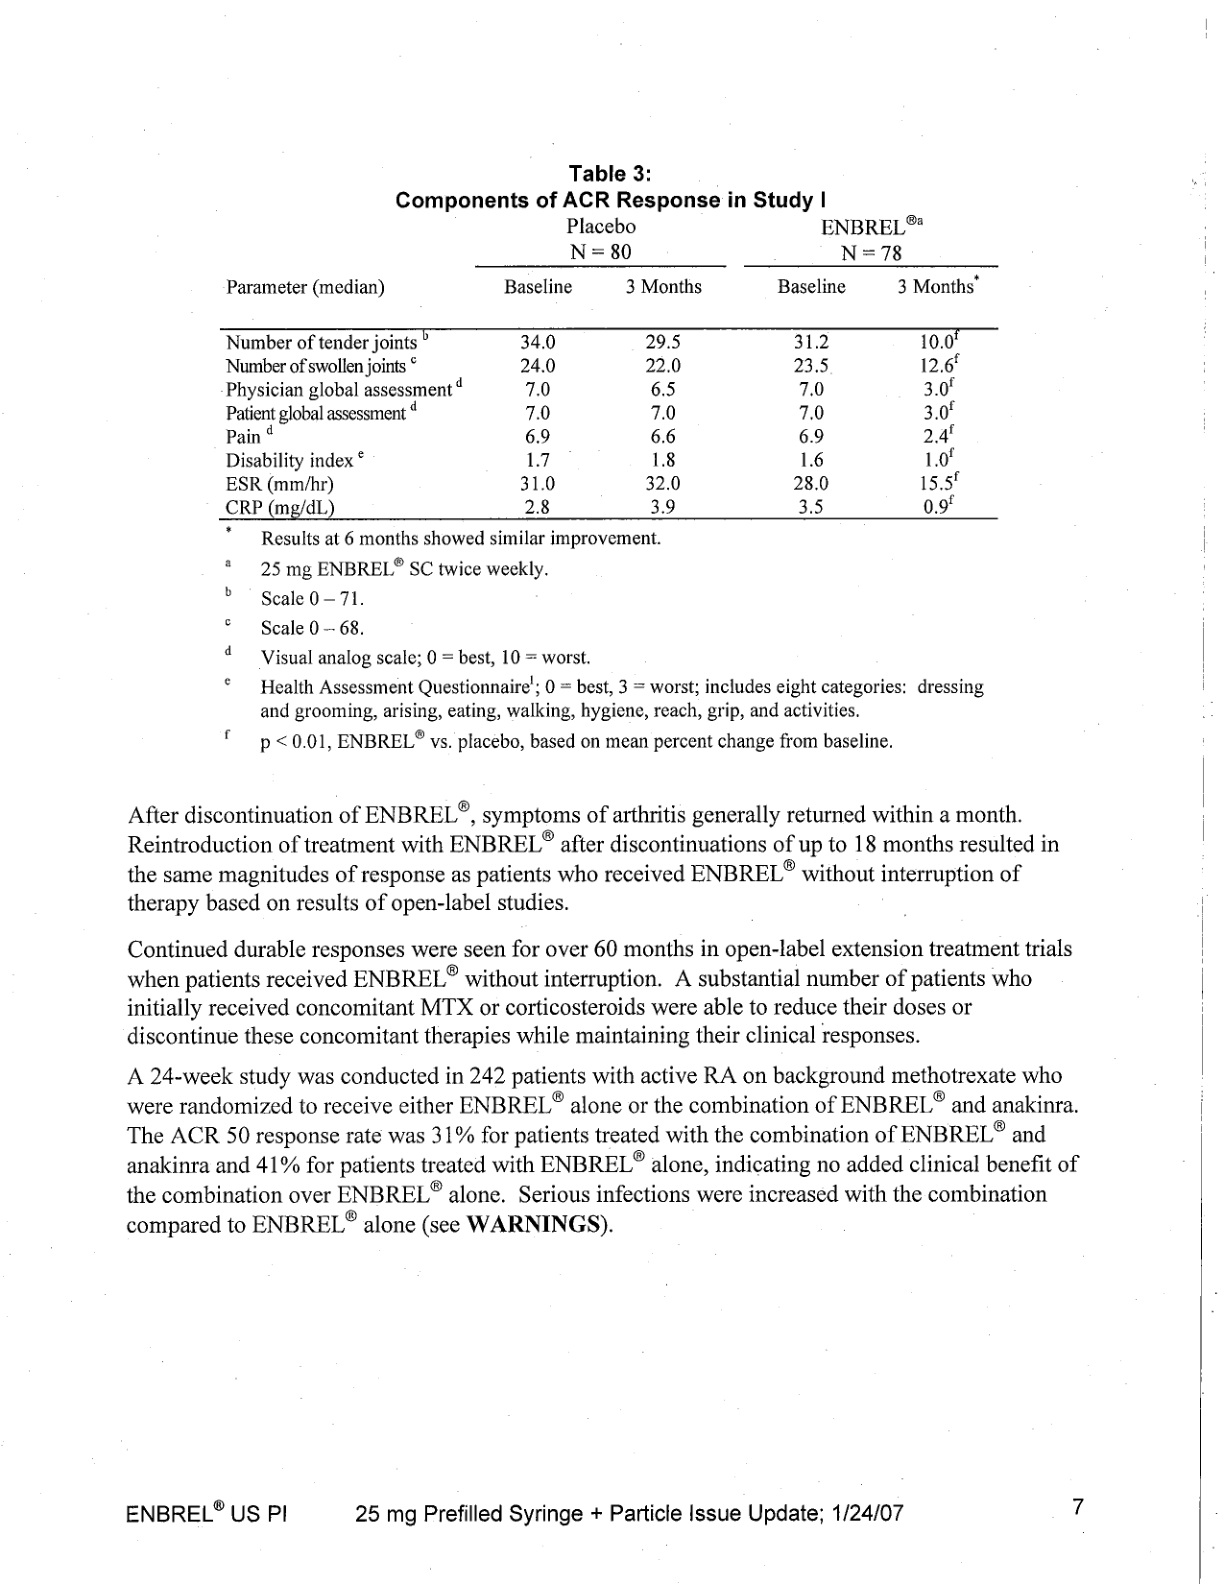partial_lined_merged_cells: (219, 211, 1000, 521)
